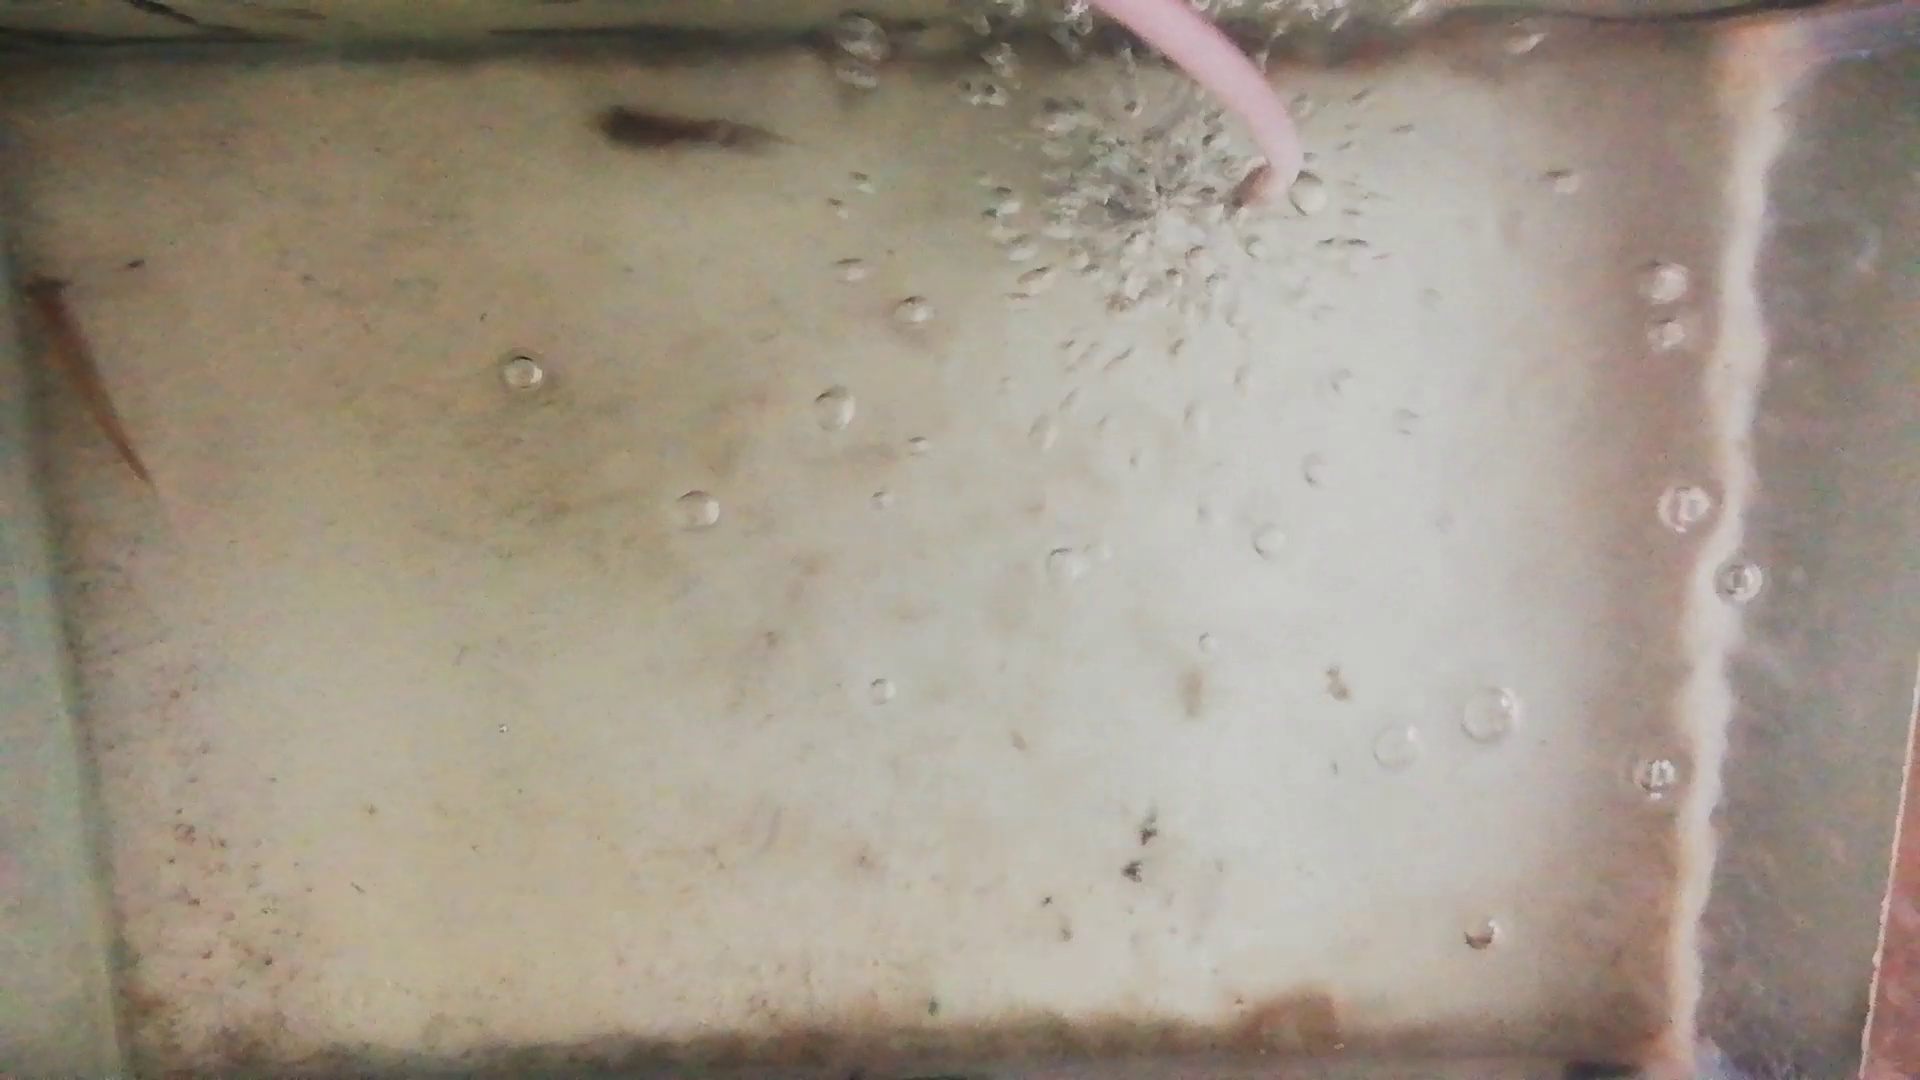fish: (22, 272, 157, 483), (585, 105, 778, 154)
